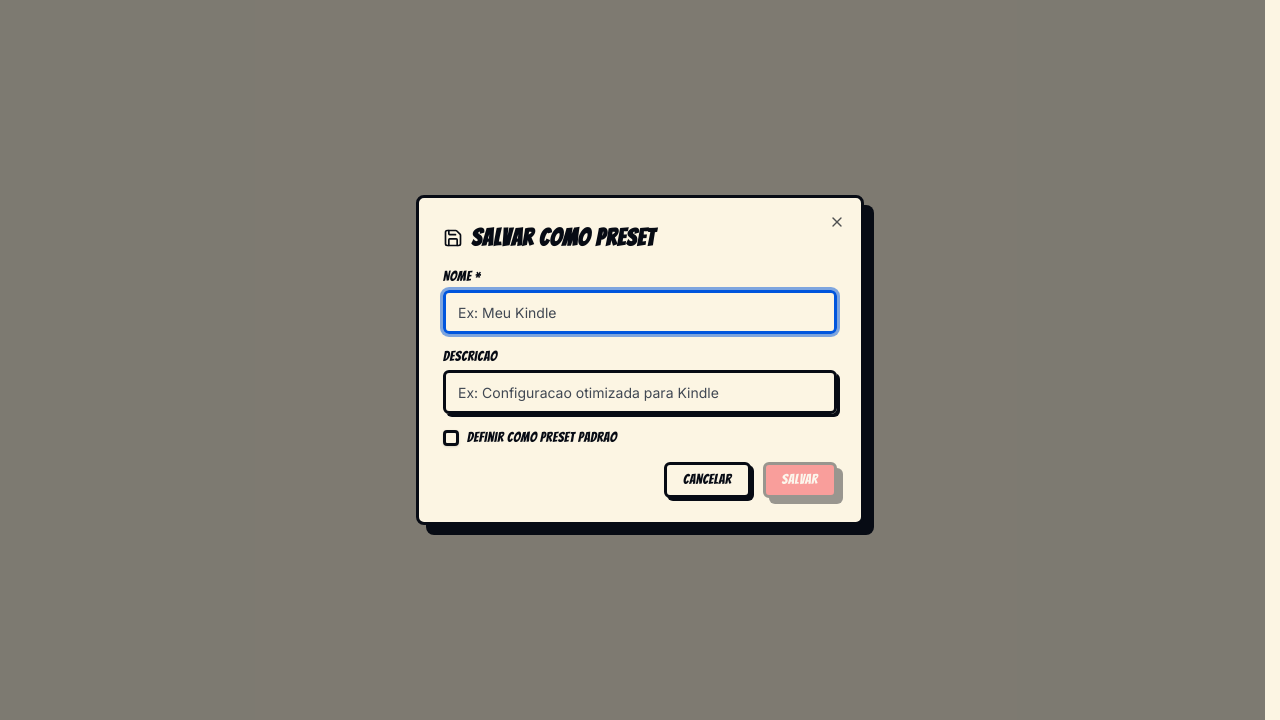
it: SavePresetDialog › rejeita nome duplicado com feedback inline
Type "Meu Kindle" into the field with placeholder "Ex: Meu Kindle". click: x=640, y=312
box: [443,290,837,334]
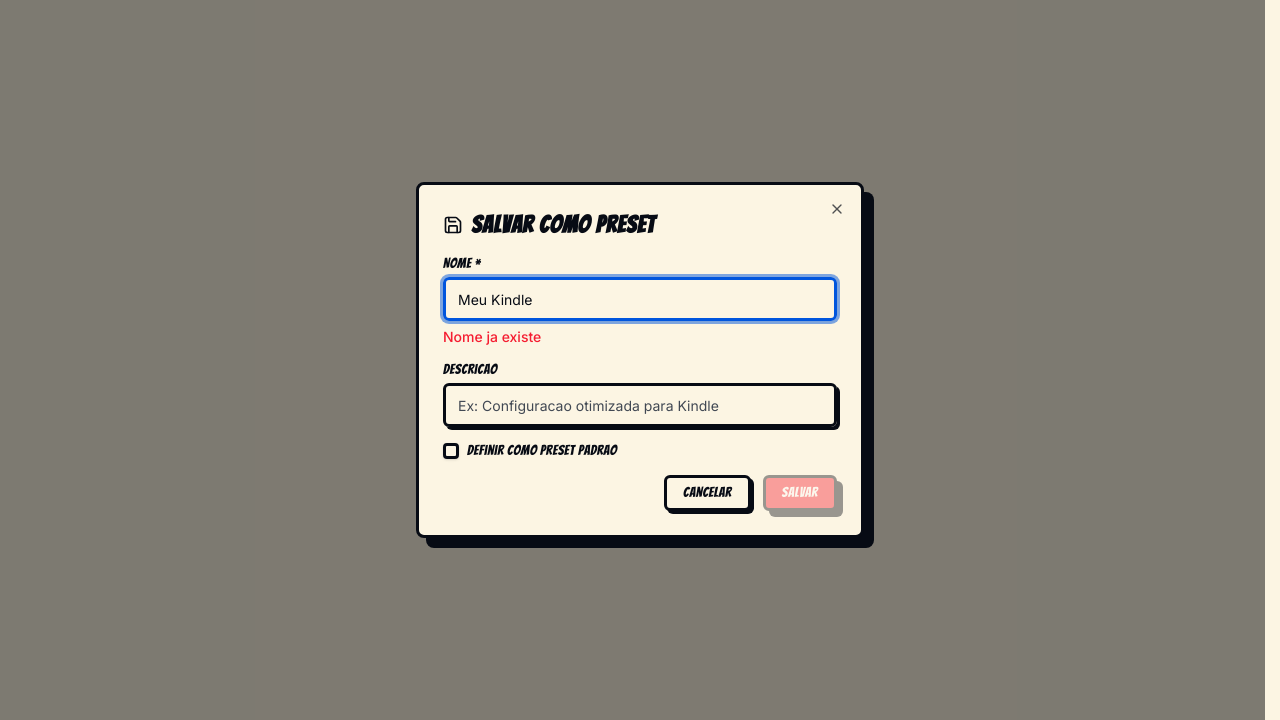
Check: the button "Salvar" is disabled, box [763,475,837,511]
Check: the text "Nome ja existe" is shown, box [443,328,541,345]
